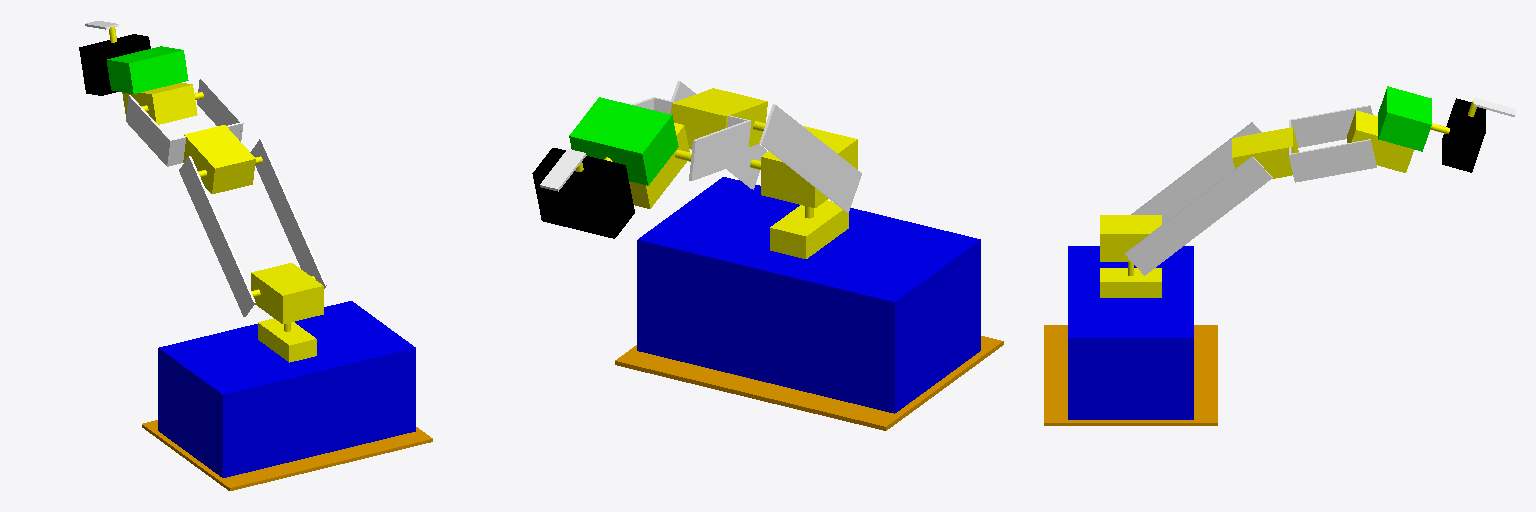
URDF robot description (six_arm):
<?xml version="1.0"?>
<robot name="six_arm"> 
<!--creat baseline-->
  <link name="base_link">
    <visual>
      <geometry>
        <box size="0.20 .15 .003"/>
      </geometry>
    </visual>
  </link>

<!--add dody-->
  <link name="body">
    <visual>
      <geometry>
       <box size="0.19 .11 .08"/>
      </geometry>
      <material name="blue">
          <color rgba="0 0 255 0.8"/>
      </material>  
    </visual>
  </link>  

  <joint name="base_to_body" type="fixed">
    <parent link="base_link"/>
    <child link="body"/>
    <origin xyz="0.0 0.0 0.04"/>
  </joint> 

<!-- shoulder stevo  XY -->
  <link name="shoulder_stevo">
    <visual>
      <geometry>
       <box size="0.054 .0403 .027"/>
      </geometry>
      <material name="black">
          <color rgba="1 1 0 1"/>
      </material>  
    </visual>
  </link> 

 <joint name="body_to_left_shoulder_stevo" type="fixed">
    <parent link="body"/>
    <child link="shoulder_stevo"/>
    <!--origin rpy="1.57075 0 1.57075" xyz="0.04 0.035 0.026"/ -->
    <origin rpy="1.57075 0 1.57075" xyz="0 0 0.036"/>
    <!-- origin rpy="1.57075 0 0" xyz="0.0 0.0 0.026" -->
 </joint>  

<!-- shoulder stevo axis XY -->
  <link name="shoulder_stevo_axis">
    <visual>
      <geometry>
       <cylinder length=".04" radius="0.0029"></cylinder>
      </geometry>
      <material name="yellow">
          <color rgba="1 1 0 1"/>
      </material>  
    </visual>
  </link>

  <joint name="shoulder_stevo_to_axis" type="fixed">
    <axis xyz="0 0 1"/> 
    <parent link="shoulder_stevo"/>
    <child link="shoulder_stevo_axis"/>
    <origin rpy="1.57075 0 0" xyz="0.0 0.027 0.0"/>
    <limit effort="100" velocity="100" lower="0" upper="3.1415926"/> 
    <joint_properties damping="0.0" friction="0.0"/>
  </joint>  

 <!-- shoulder stevo lift  XZ-->
  <link name="shoulder_stevo_lift">
    <visual>
      <geometry>
       <box size="0.054 .0403 .027"/>
      </geometry>
      <material name="black">
          <color rgba="1 1 0 1"/>
      </material>  
    </visual>
  </link> 

  <joint name="shoulder_stevo_axis_to_lift_stevo" type="fixed">
    <parent link="shoulder_stevo_axis"/>
    <child link="shoulder_stevo_lift"/>
    <!-- origin xyz="0.0 -0.01015 -0.028"/ -->
   <origin xyz="0 0 -0.028"/>
  </joint>

 <!-- shoulder stevo lift  axis XZ-->
  <link name="shoulder_stevo_lift_axis">
    <visual>
      <geometry>
       <cylinder length=".0704" radius="0.0029"></cylinder>
      </geometry>
      <material name="yellow">
          <color rgba="1 1 0 1"/>
      </material>  
    </visual>
  </link>

  <joint name="shoulder_stevo_lift_to_axis" type="fixed">
    <axis xyz="0 0 1"/> 
    <parent link="shoulder_stevo_lift"/>
    <child link="shoulder_stevo_lift_axis"/>
    <origin rpy="1.57075 0.7 0" xyz="0.0135 0.0 0.0"/>
    <limit effort="100" velocity="100"/> 
    <joint_properties damping="0.0" friction="0.0"/>
  </joint>     

<!-- big arm -->
  <!-- eft side-->
  <link name="big_arm_up">
    <visual>
      <geometry>
       <box size="0.145 .027 .002"/>
      </geometry>
      <material name="sliver">
          <color rgba="223 223 223 1"/>
      </material>  
    </visual>
  </link> 

 <joint name="shoulder_stevo_lift_axis_to_left_big_arm" type="fixed">
    <parent link="shoulder_stevo_lift_axis"/>
    <child link="big_arm_up"/>
    <!-- origin xyz="0.059 0.0 -0.035"/ -->
    <origin rpy="0 0 0" xyz="0.059 0.0 -0.035"/>
  </joint>  

 <!-- right side-->
  <link name="big_arm_down">
    <visual>
      <geometry>
       <box size="0.145 .027 .002"/>
      </geometry>
      <material name="sliver">
          <color rgba="223 223 223 1"/>
      </material>  
    </visual>
  </link> 

 <joint name="big_arm_up_to_left_big_arm_down" type="fixed">
    <parent link="big_arm_up"/>
    <child link="big_arm_down"/>
    <origin xyz="0.0 0.0 0.07"/>
  </joint>   


<!-- arm stevo-->

  <link name="arm_stevo_axis">
    <visual>
      <geometry>
       <cylinder length=".0704" radius="0.0029"></cylinder>
      </geometry>
      <material name="yellow">
          <color rgba="1 1 0 1"/>
      </material>  
    </visual>
  </link>

  <joint name="big_arm_up_to_axis" type="fixed">
    <axis xyz="0 0 1"/> 
    <parent link="big_arm_up"/>
    <child link="arm_stevo_axis"/>
    <origin rpy="0 0 0.5" xyz="0.059 0.0 0.0352"/>
    <limit effort="100" velocity="100" lower="0" upper="3.1415926"/> 
    <joint_properties damping="0.0" friction="0.0"/>
  </joint>  

  <link name="arm_stevo">
    <visual>
      <geometry>
       <box size="0.054 .027 .0403"/>
      </geometry>
      <material name="black">
          <color rgba="1 1 0 1"/>
      </material>  
    </visual>
  </link> 

 <joint name="big_arm_up_to_axis_to_arm_stevo" type="fixed">
    <parent link="arm_stevo_axis"/>
    <child link="arm_stevo"/>
    <origin xyz="0.0135 0.0 0.0"/>
  </joint>  

<!-- small arm -->
 <!-- left side-->
  <link name="small_arm_up">
    <visual>
      <geometry>
       <box size="0.0725 .027 .002"/>
      </geometry>
      <material name="sliver">
          <color rgba="223 223 223 1"/>
      </material>  
    </visual>
  </link> 

 <joint name="arm_stevo_to_left_small_arm_up" type="fixed">
    <parent link="arm_stevo"/>
    <child link="small_arm_up"/>
    <origin xyz="0.059 0.0 -0.035"/>
  </joint>  

  <!-- right side-->
  <link name="small_arm_down">
    <visual>
      <geometry>
       <box size="0.0725 .027 .002"/>
      </geometry>
      <material name="sliver">
          <color rgba="223 223 223 1"/>
      </material>  
    </visual>
  </link> 

 <joint name="small_arm_up_to_small_arm_down" type="fixed">
    <parent link="small_arm_up"/>
    <child link="small_arm_down"/>
    <origin xyz="0.0 0.0 0.07"/>
  </joint>  

 <!-- middle side-->
  <link name="small_arm_middle">
    <visual>
      <geometry>
       <box size="0.07 .027 .002"/>
      </geometry>
      <material name="sliver">
          <color rgba="223 223 223 1"/>
      </material>  
    </visual>
  </link> 

 <joint name="small_arm_up_to_small_arm_middle" type="fixed">
    <parent link="small_arm_up"/>
    <child link="small_arm_middle"/>
    <origin rpy="0 1.57075 0" xyz="-0.035 0.0 0.035"/>
  </joint> 

<!--wrist stevo-->
  <link name="wrist_stevo_axis">
    <visual>
      <geometry>
       <cylinder length=".0704" radius="0.0029"></cylinder>
      </geometry>
      <material name="yellow">
          <color rgba="1 1 0 1"/>
      </material>  
    </visual>
  </link>

  <joint name="small_arm_up_to_axis" type="fixed">
    <axis xyz="0 0 1"/> 
    <parent link="small_arm_up"/>
    <child link="wrist_stevo_axis"/>
    <origin rpy="0 0 0.5" xyz="0.0295 0.0 0.0352"/>
    <limit effort="100" velocity="100" lower="0" upper="3.1415926"/> 
    <joint_properties damping="0.0" friction="0.0"/>
  </joint>  

  <link name="wrist_stevo">
    <visual>
      <geometry>
       <box size="0.054 .027 .0403"/>
      </geometry>
      <material name="black">
          <color rgba="1 1 0 1"/>
      </material>  
    </visual>
  </link> 

 <joint name="small_arm_up_to_axis_to_axis_stevo" type="fixed">
    <parent link="wrist_stevo_axis"/>
    <child link="wrist_stevo"/>
    <origin xyz="0.0135 0.0 0.0"/>
  </joint> 

<!--wrist run stevo-->
  <link name="wrist_run_stevo">
    <visual>
      <geometry>
       <box size="0.054 .027 .0403"/>
      </geometry>
      <material name="green">
          <color rgba="0 255 0 1 "/>
      </material>  
    </visual>
  </link> 

 <joint name="wrist_stevo_to_wrist_run_stevo" type="fixed">
    <parent link="wrist_stevo"/>
    <child link="wrist_run_stevo"/>
    <origin rpy="0 1.57075 0" xyz="0.0135 -0.027 0.0"/>
  </joint>   

  <link name="wrist_run_stevo_axis">
    <visual>
      <geometry>
       <cylinder length=".04" radius="0.0029"></cylinder>
      </geometry>
      <material name="yellow">
          <color rgba="1 1 0 1"/>
      </material>  
    </visual>
  </link>

  <joint name="wrist_run_stevo_to_axis" type="fixed">
    <axis xyz="0 0 1"/> 
    <parent link="wrist_run_stevo"/>
    <child link="wrist_run_stevo_axis"/>
    <!-- origin rpy="0 0 0" xyz="0.0135 0 0.020"/ -->
    <origin rpy="0 0 0" xyz="0 0 0.020"/>
    <limit effort="100" velocity="100" lower="0" upper="3.1415926"/> 
    <joint_properties damping="0.0" friction="0.0"/>
  </joint> 

<!-- hand run stevo -->
  <link name="hand_run_stevo">
    <visual>
      <geometry>
       <box size="0.054 .027 .0403"/>
      </geometry>
      <material name="black">
          <color rgba="0 0 0 1 "/>
      </material>  
    </visual>
  </link> 

 <joint name="wrist_run_stevo_axis_to_hand_run_stevo" type="fixed">
    <parent link="wrist_run_stevo_axis"/>
    <child link="hand_run_stevo"/>
    <origin rpy="1.57075 0 0" xyz="0.0 0.0 0.0335"/>
  </joint>  

 <link name="hand_run_stevo_axis">
    <visual>
      <geometry>
       <cylinder length=".04" radius="0.0029"></cylinder>
      </geometry>
      <material name="yellow">
          <color rgba="1 1 0 1"/>
      </material>  
    </visual>
  </link>

  <joint name="hand_run_stevo_to_hand_run_stevo_axis" type="fixed">
    <axis xyz="0 0 1"/> 
    <parent link="hand_run_stevo"/>
    <child link="hand_run_stevo_axis"/>
    <!-- origin rpy="0 0 0" xyz="0.0135 0 0.0135"/ -->
    <origin rpy="0 0 0" xyz="0 0 0.0135"/>
    <limit effort="100" velocity="100" lower="0" upper="3.1415916"/> 
    <joint_properties damping="0.0" friction="0.0"/>
  </joint>    


<!--finger-->
  <link name="finger">
    <visual>
      <geometry>
       <box size="0.0375 .0135 .002"/>
      </geometry>
      <material name="sliver">
          <color rgba="223 223 223 1"/>
      </material>  
    </visual>
  </link> 

 <joint name="hand_run_stevo_axis_to_finger" type="fixed">
    <parent link="hand_run_stevo_axis"/>
    <child link="finger"/>
    <origin rpy="0 0 1.57075" xyz="0.0 0.0173 0.02"/>
  </joint>     

</robot>

--- Render facts (derived) ---
3 views of the same robot in one strip: view 1: azimuth 30°, elevation 25°; view 2: azimuth 150°, elevation 25°; view 3: azimuth 270°, elevation 25° (orthographic).
Model six_arm with 20 links and 19 joints (19 fixed), rooted at base_link, posed all joints at 0.
Links seen in each view (by area): view 1: body, base_link, arm_stevo, shoulder_stevo_lift, wrist_run_stevo, big_arm_down, big_arm_up, hand_run_stevo, wrist_stevo, shoulder_stevo, small_arm_down, small_arm_up; view 2: body, base_link, wrist_run_stevo, hand_run_stevo, big_arm_down, arm_stevo, shoulder_stevo, shoulder_stevo_lift, small_arm_down, wrist_stevo, big_arm_up, finger; view 3: body, base_link, big_arm_up, big_arm_down, wrist_run_stevo, small_arm_up, hand_run_stevo, arm_stevo, shoulder_stevo_lift, small_arm_down, shoulder_stevo, wrist_stevo.
Link boxes in pixels (x1=…): body: x1=158, y1=301, x2=415, y2=477; base_link: x1=142, y1=420, x2=432, y2=490; arm_stevo: x1=183, y1=125, x2=255, y2=193; shoulder_stevo_lift: x1=251, y1=263, x2=323, y2=323; wrist_run_stevo: x1=107, y1=46, x2=188, y2=93; big_arm_down: x1=179, y1=156, x2=255, y2=316; big_arm_up: x1=250, y1=138, x2=326, y2=288; hand_run_stevo: x1=79, y1=34, x2=150, y2=95; wrist_stevo: x1=122, y1=83, x2=197, y2=124; shoulder_stevo: x1=258, y1=319, x2=316, y2=362; small_arm_down: x1=126, y1=95, x2=171, y2=166; small_arm_up: x1=197, y1=78, x2=243, y2=141; body: x1=637, y1=177, x2=980, y2=413; base_link: x1=615, y1=336, x2=1003, y2=430; wrist_run_stevo: x1=569, y1=97, x2=678, y2=185; hand_run_stevo: x1=532, y1=148, x2=634, y2=238; big_arm_down: x1=759, y1=104, x2=861, y2=212; arm_stevo: x1=671, y1=88, x2=767, y2=149; shoulder_stevo: x1=770, y1=200, x2=848, y2=258; shoulder_stevo_lift: x1=761, y1=126, x2=857, y2=207; small_arm_down: x1=689, y1=120, x2=750, y2=180; wrist_stevo: x1=629, y1=123, x2=689, y2=208; big_arm_up: x1=671, y1=81, x2=766, y2=189; finger: x1=540, y1=149, x2=586, y2=191; body: x1=1068, y1=246, x2=1193, y2=419; base_link: x1=1044, y1=325, x2=1217, y2=425; big_arm_up: x1=1125, y1=156, x2=1272, y2=275; big_arm_down: x1=1131, y1=122, x2=1262, y2=224; wrist_run_stevo: x1=1378, y1=86, x2=1431, y2=151; small_arm_up: x1=1289, y1=139, x2=1376, y2=182; hand_run_stevo: x1=1442, y1=98, x2=1485, y2=172; arm_stevo: x1=1232, y1=127, x2=1298, y2=178; shoulder_stevo_lift: x1=1100, y1=215, x2=1161, y2=261; small_arm_down: x1=1289, y1=105, x2=1372, y2=147; shoulder_stevo: x1=1100, y1=268, x2=1161, y2=297; wrist_stevo: x1=1347, y1=110, x2=1413, y2=172.
Size in the robot's own frame: 0.2 by 0.4082 by 0.2655 metres.
Geometry: primitives only (box / cylinder / sphere), no mesh files.
